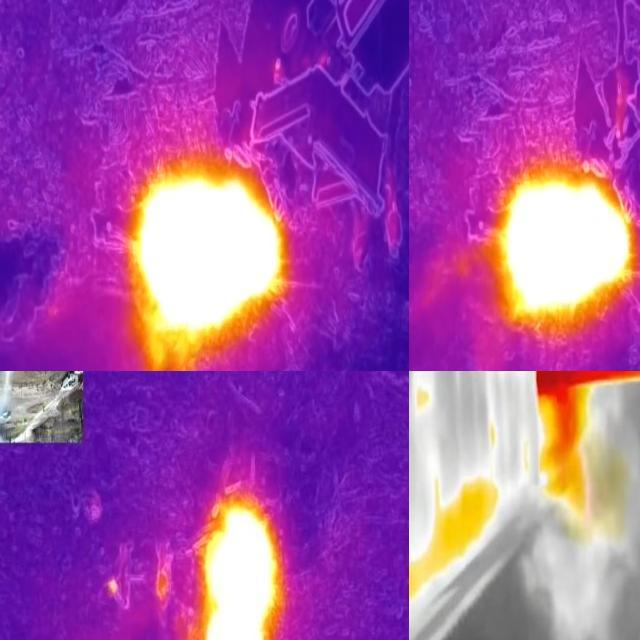fire: (123, 153, 288, 372), (494, 162, 639, 342), (196, 496, 284, 640), (411, 461, 501, 600), (536, 388, 593, 510)
